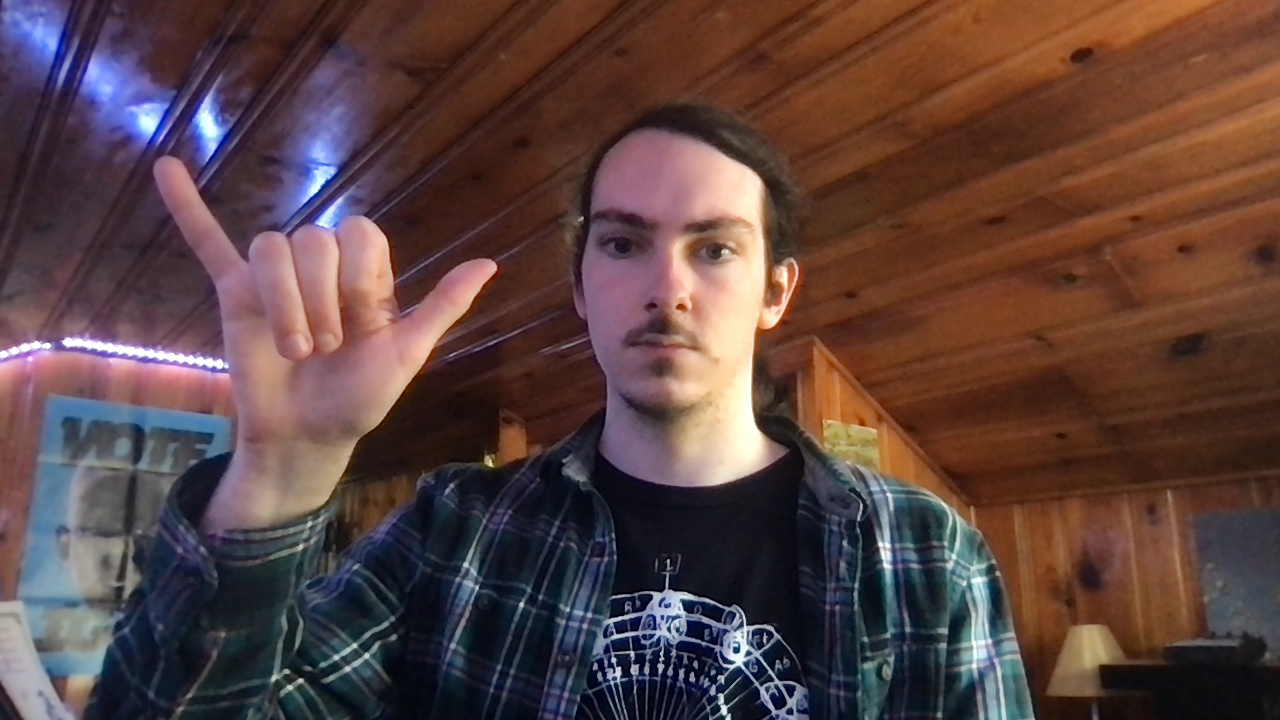y: (150, 152, 498, 444)
